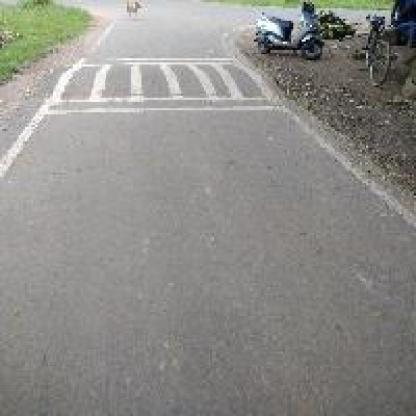Speed Bump: (44, 54, 283, 117)
